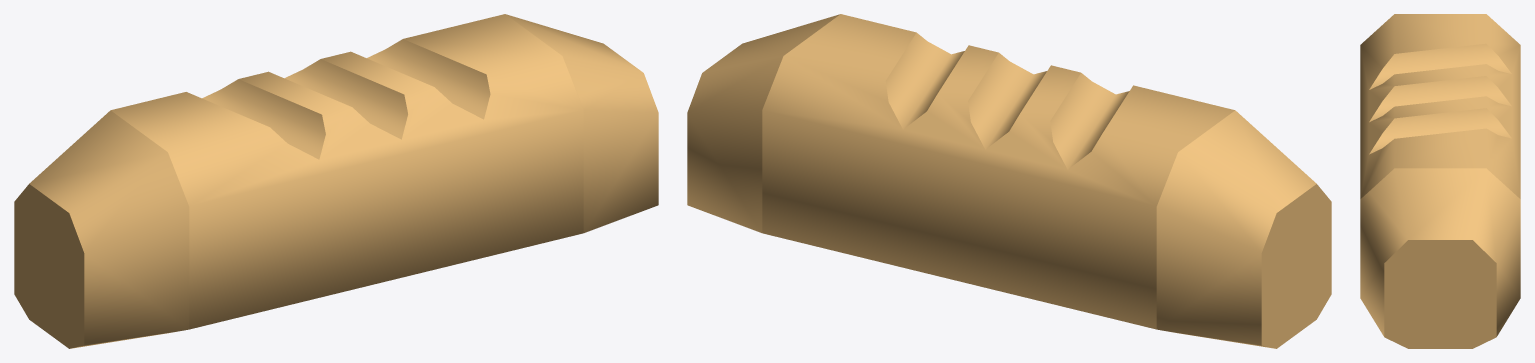
Rendered from bread_cooked.glb.
3 views of the same model, side by side, from view 1: azimuth 30°, elevation 25°; view 2: azimuth 150°, elevation 25°; view 3: azimuth 270°, elevation 25° (orthographic). The views are drawn at different scales.
Visible parts, largest first — view 1: bread_cooked; view 2: bread_cooked; view 3: bread_cooked.
Part boxes in pixels (bbox=[...]): bread_cooked: bbox=[14, 14, 658, 348]; bread_cooked: bbox=[687, 14, 1331, 348]; bread_cooked: bbox=[1360, 14, 1520, 348].
Bounding box in the file's own units: 0.4952 × 0.1491 × 0.1491.
